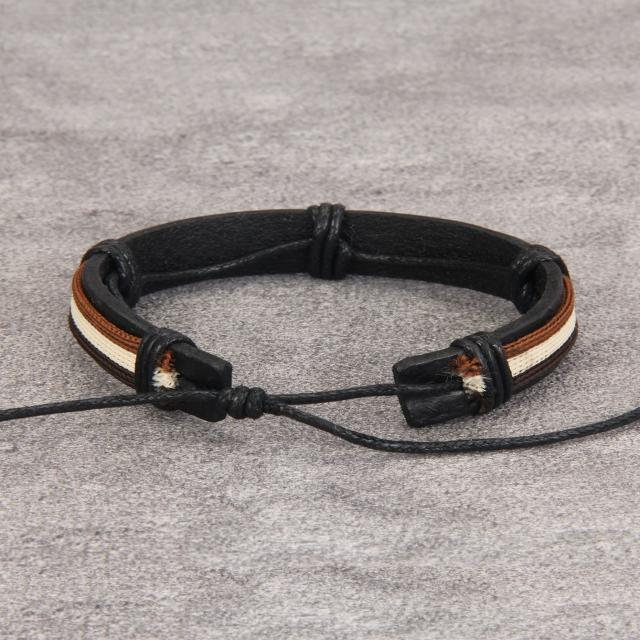bracelet: (11, 171, 640, 483)
